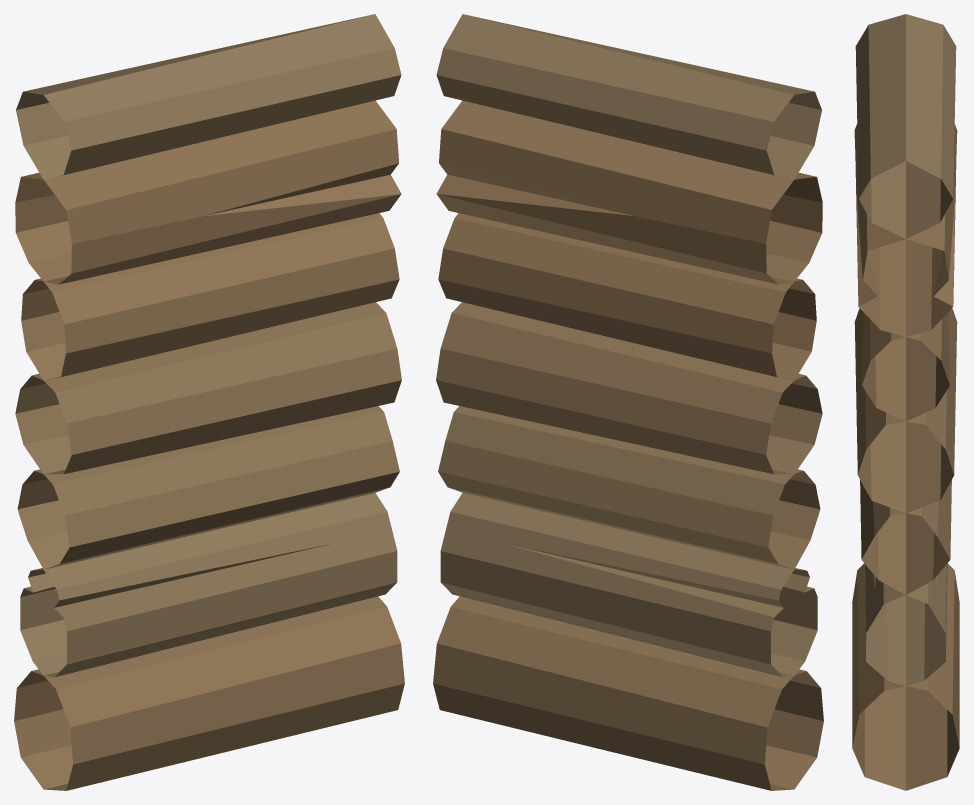
File: rpgpp_ag_wall_01_1.5x3_a.fbx
3 renders of one model, left to right at view 1: azimuth 30°, elevation 25°; view 2: azimuth 150°, elevation 25°; view 3: azimuth 270°, elevation 25°, orthographic. The views are drawn at different scales.
Parts seen in each view (by area): view 1: rpgpp_ag_wall_01_1.5x3_a; view 2: rpgpp_ag_wall_01_1.5x3_a; view 3: rpgpp_ag_wall_01_1.5x3_a.
Boxes of the visible parts, x1,y1,x2,y2 form: rpgpp_ag_wall_01_1.5x3_a: (14,14,404,790); rpgpp_ag_wall_01_1.5x3_a: (433,14,823,790); rpgpp_ag_wall_01_1.5x3_a: (852,14,959,790).
Bounding box in the file's own units: 1.5 × 3 × 0.4626.
